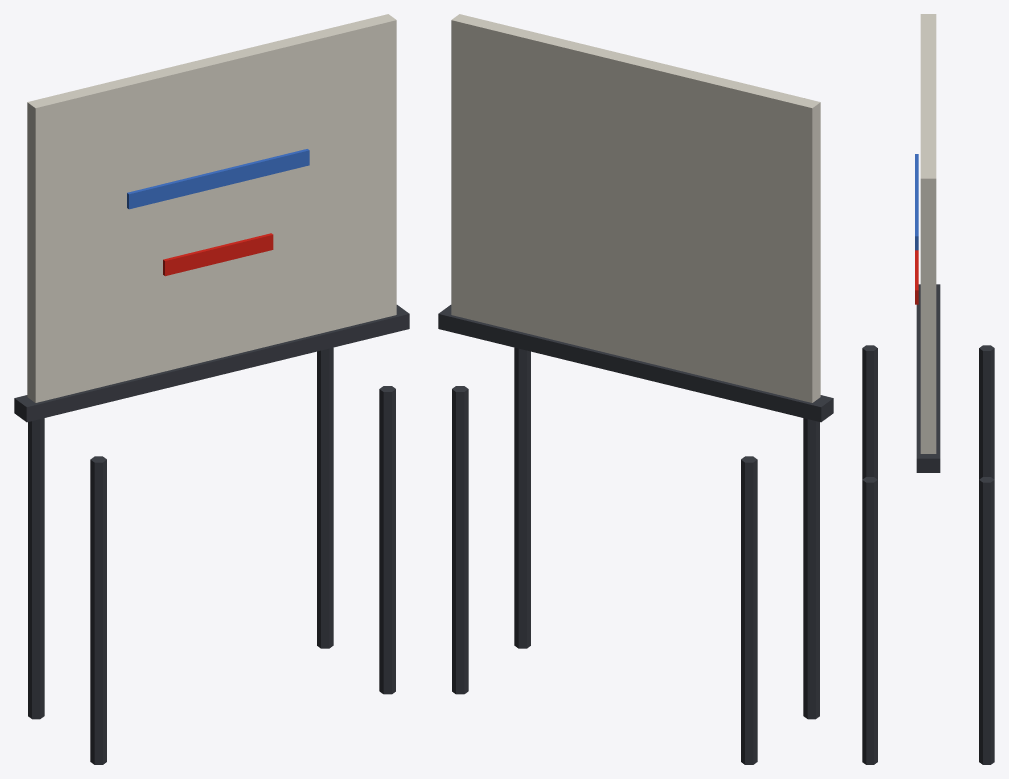
The model's file is whiteboard_easel.fbx.
3 renders of one model, left to right at view 1: azimuth 30°, elevation 25°; view 2: azimuth 150°, elevation 25°; view 3: azimuth 270°, elevation 25°, orthographic. The views are drawn at different scales.
Visible parts, largest first — view 1: whiteboard_easel; view 2: whiteboard_easel; view 3: whiteboard_easel.
Boxes of the visible parts, x1,y1,x2,y2 form: whiteboard_easel: (14, 14, 409, 764); whiteboard_easel: (438, 14, 833, 764); whiteboard_easel: (862, 14, 994, 764).
Bounding box in the file's own units: 1.06 × 1.7 × 0.34.
